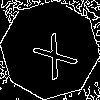X: (25, 25, 79, 81)
